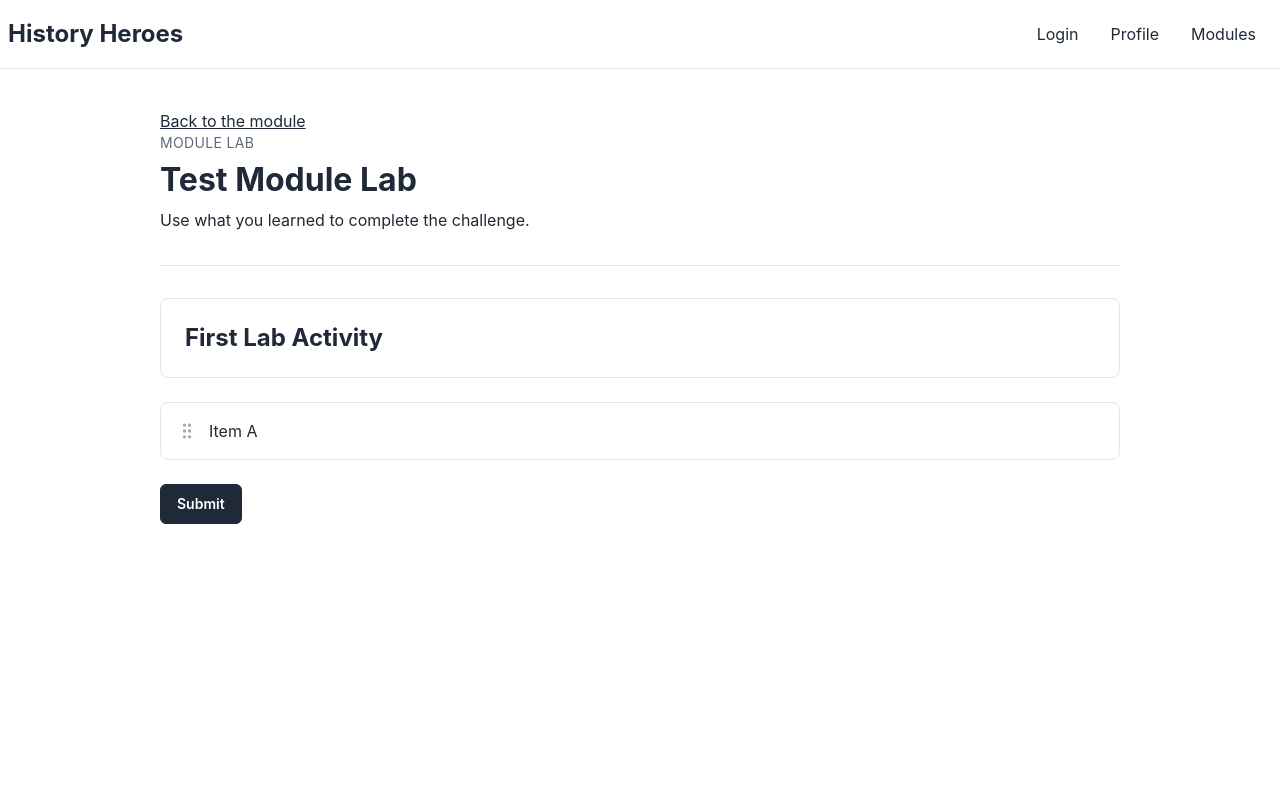
it: marks the lab complete after every activity is correct and records completion
Check: the heading "Test Module Lab" is shown, box [160, 160, 417, 199]
What coordinates should you click on to do the following:
click the button "Submit"
I would click on:
 (201, 504)
Its box is [160, 484, 242, 524].
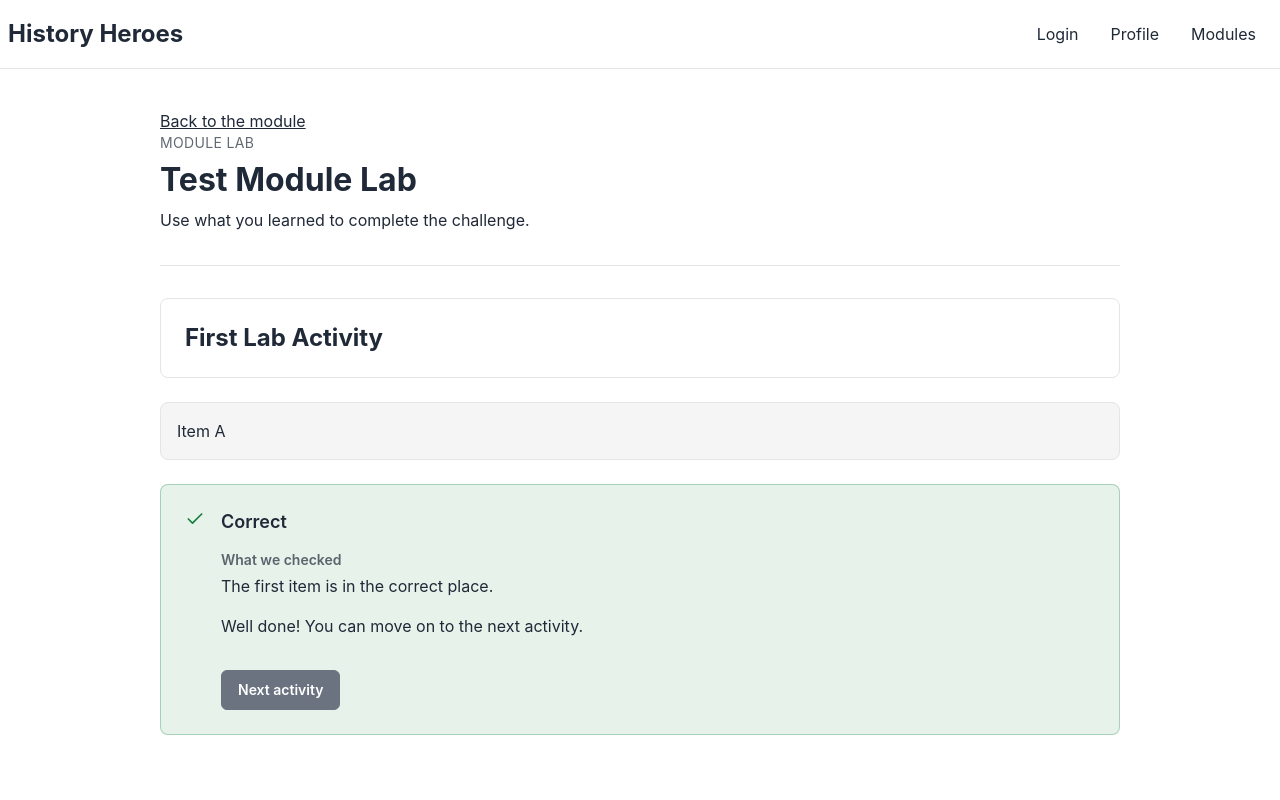
What coordinates should you click on to do the following:
click the button "Next activity"
I would click on:
 (281, 690)
Its box is [221, 670, 340, 710].
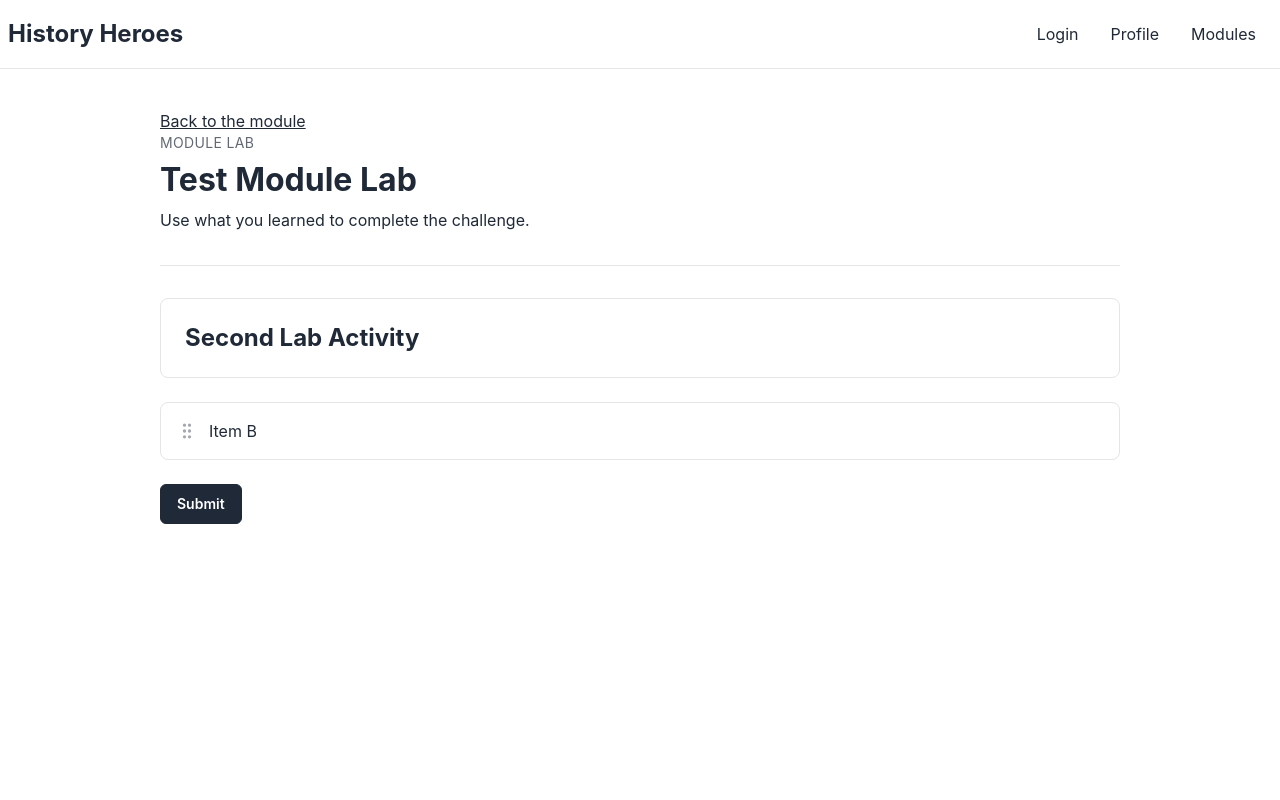
What coordinates should you click on to do the following:
click the button "Submit"
I would click on:
 (201, 504)
Its box is [160, 484, 242, 524].
(page scrolled)
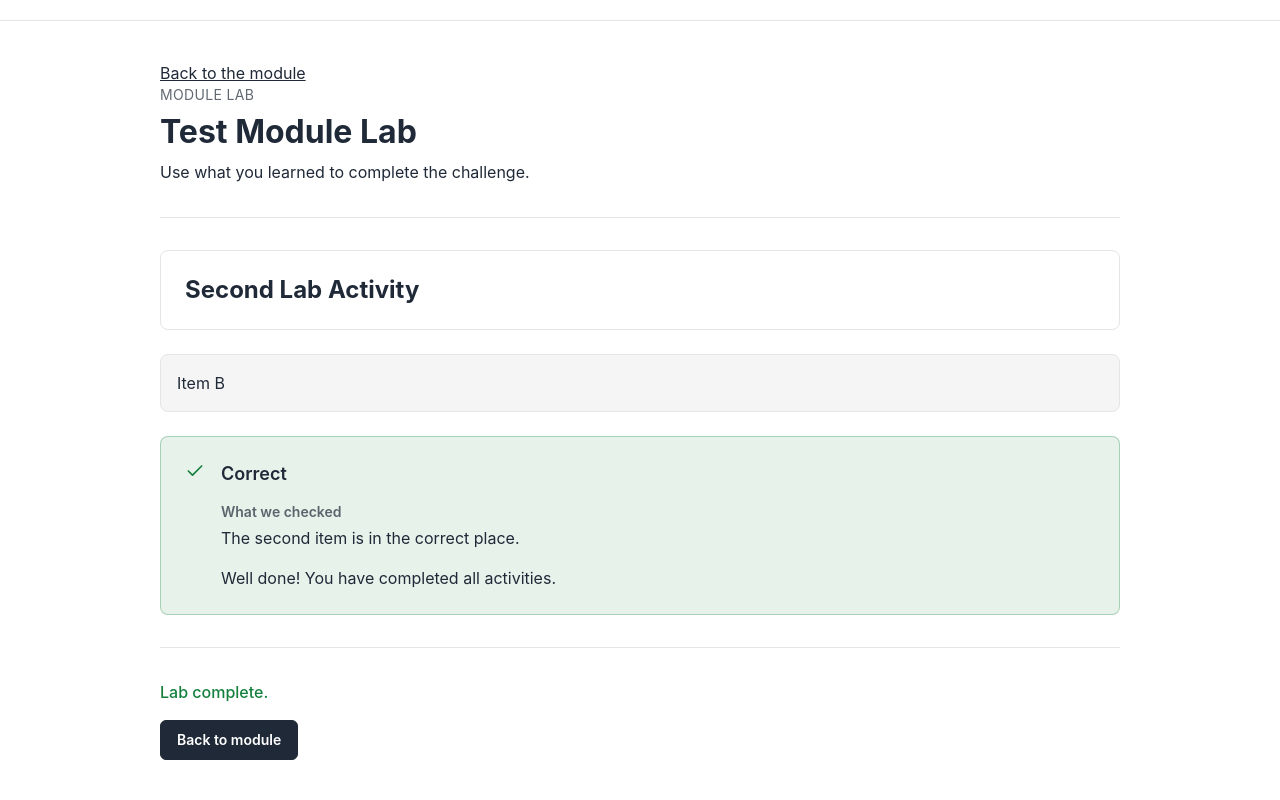
Check: the message reads "Lab complete.", box [160, 682, 268, 702]
Check: the link "Back to module" is shown, box [160, 720, 298, 760]
